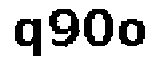0: (85, 6, 115, 52)
9: (47, 7, 81, 48)
o: (116, 18, 145, 49)
q: (12, 16, 44, 60)
